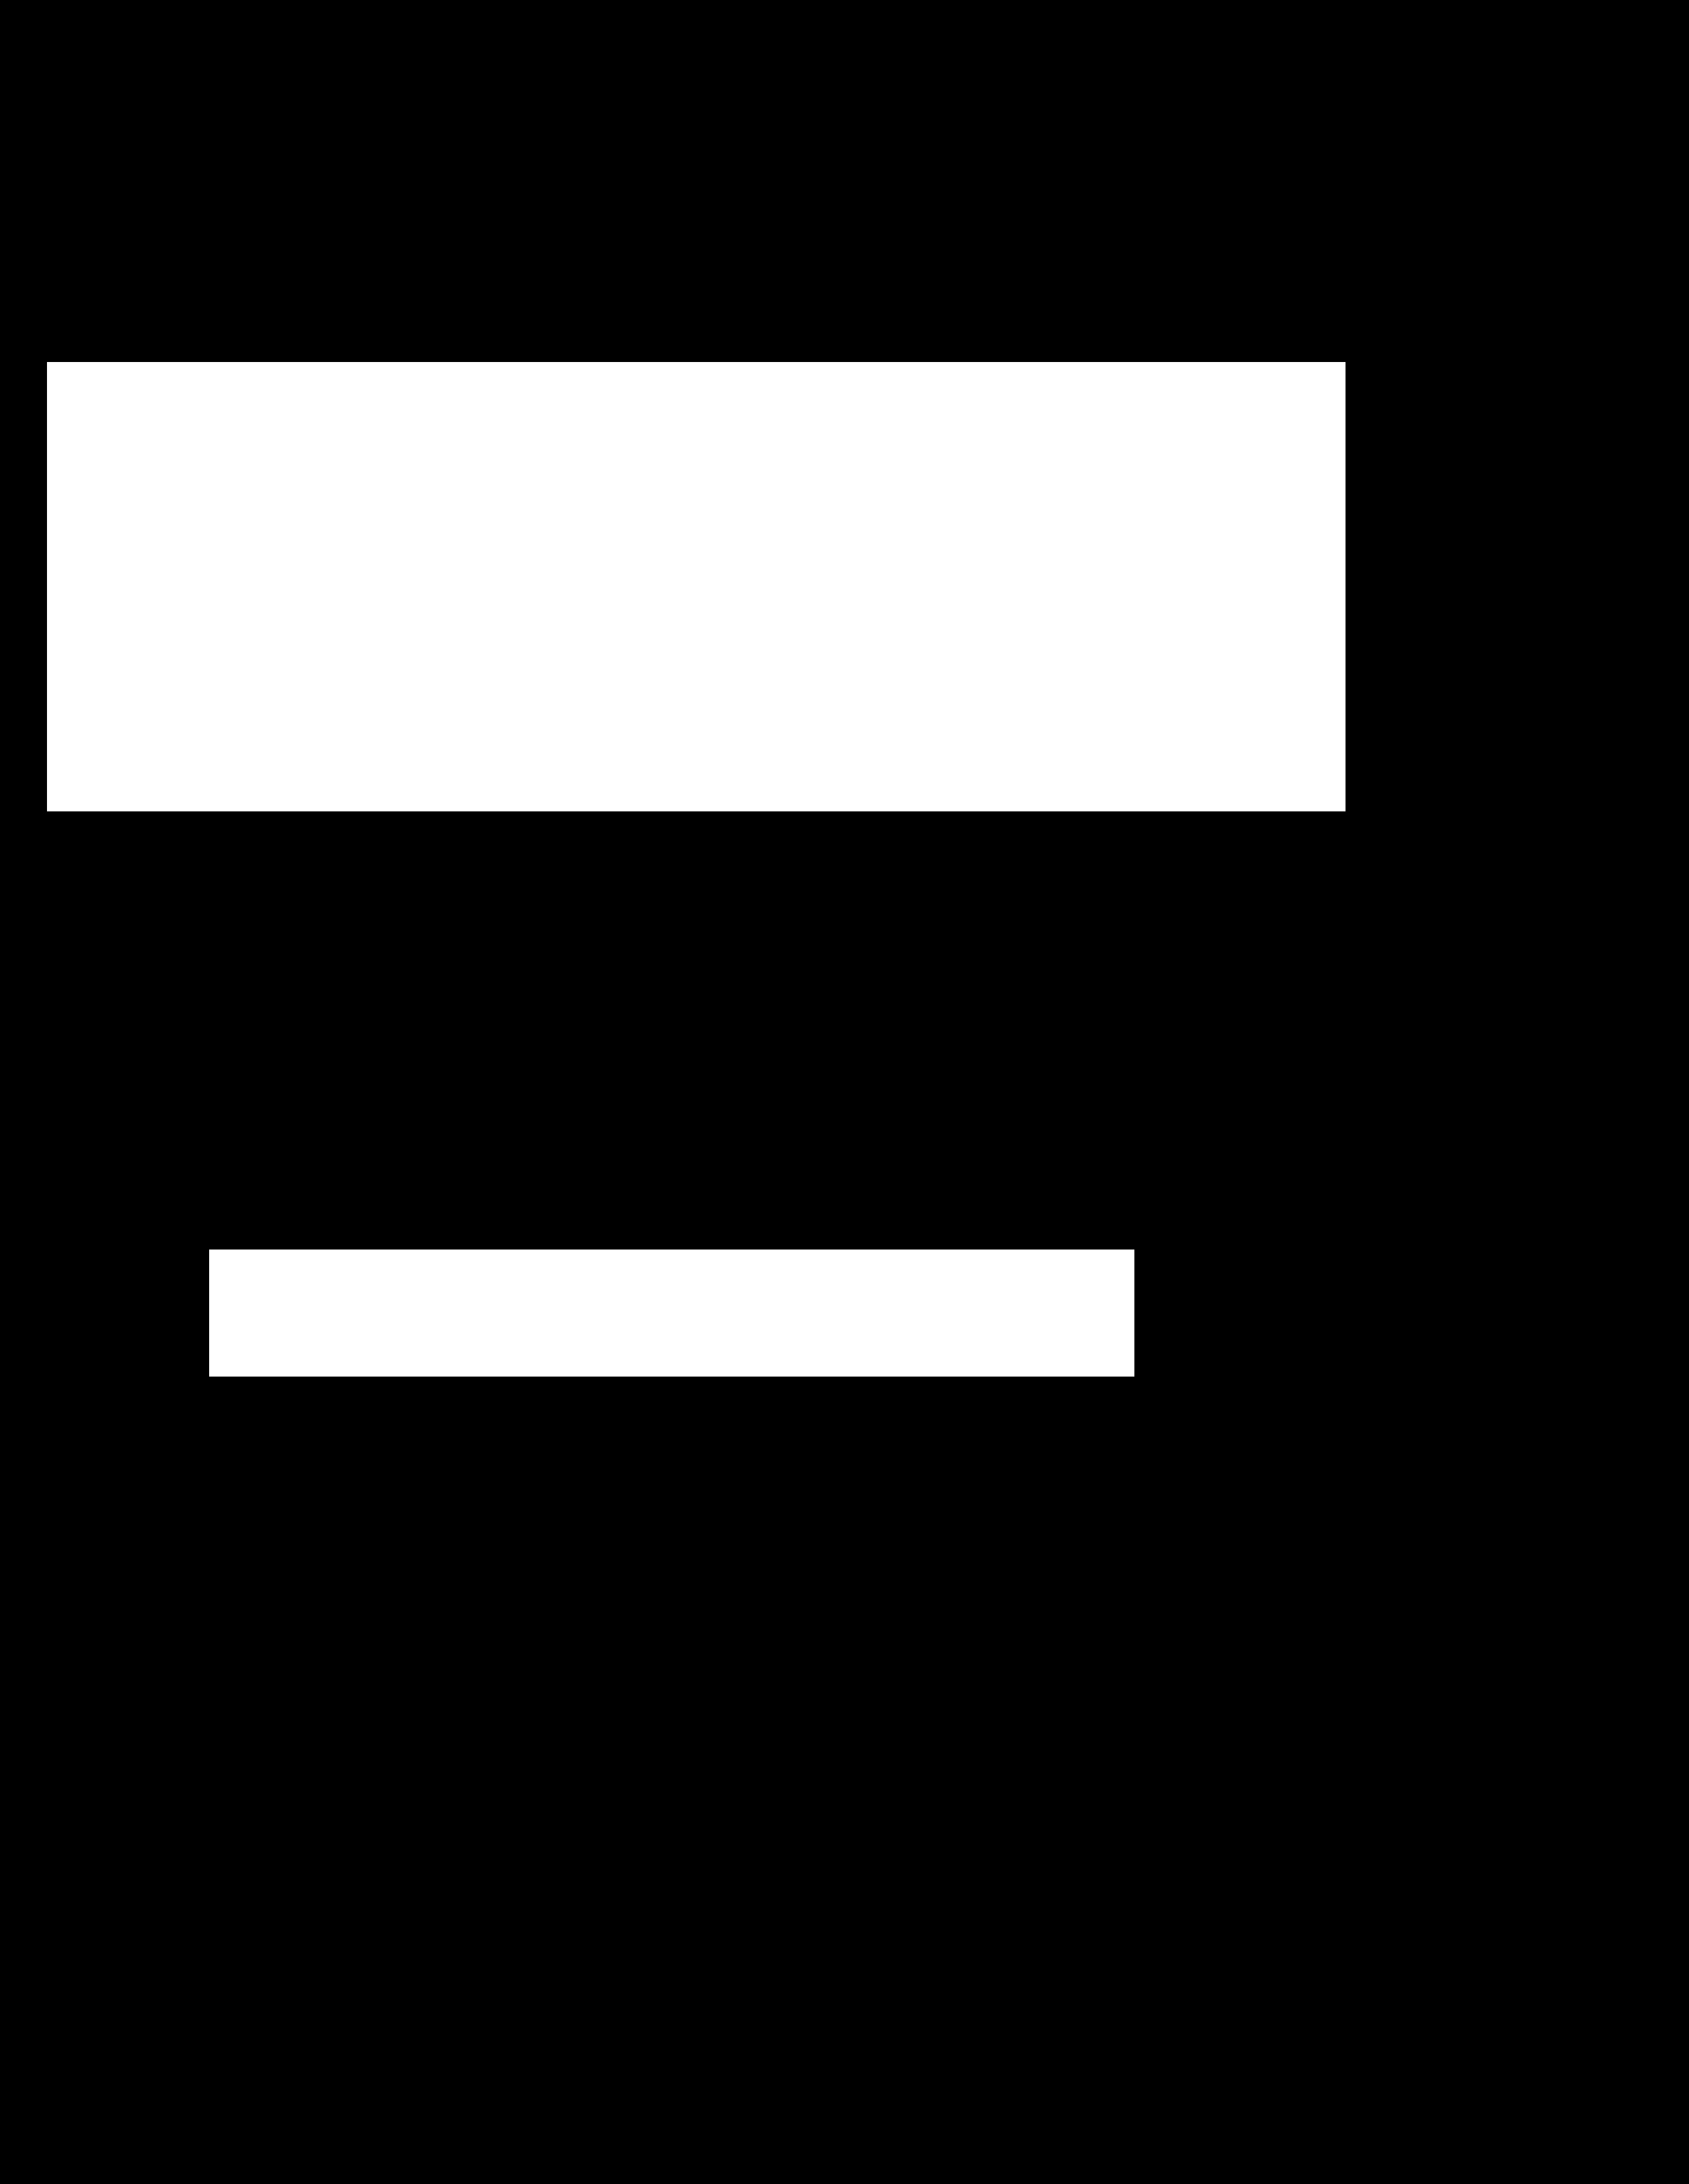table: (48, 362, 1345, 810), (209, 1250, 1134, 1376)
